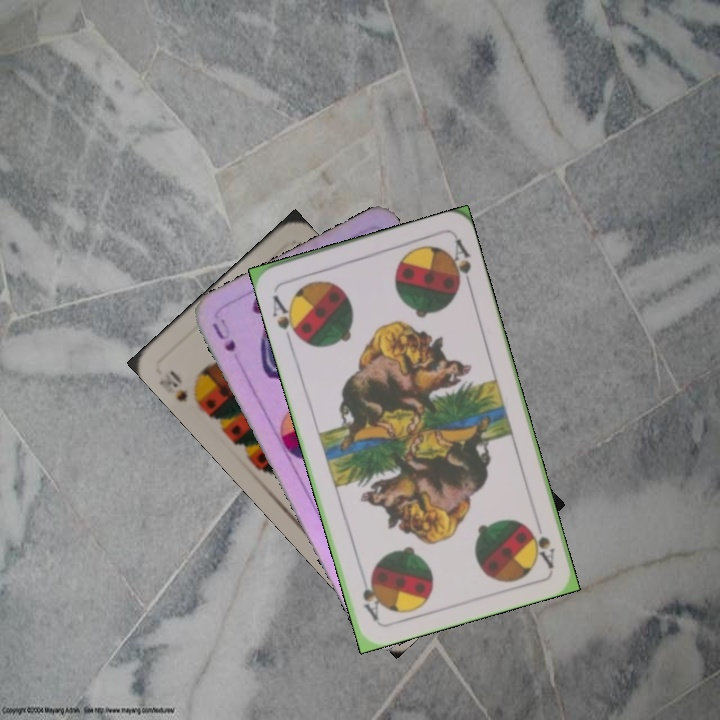S10: (155, 366, 203, 409)
SA: (524, 513, 558, 571), (268, 291, 304, 345)
SU: (207, 314, 238, 355)
